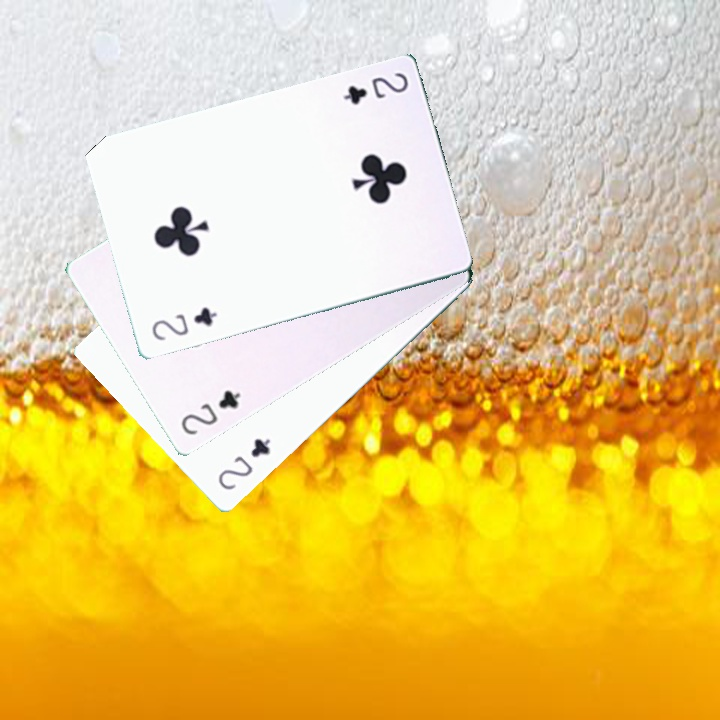2c: (213, 434, 273, 493), (177, 386, 243, 438), (147, 302, 220, 344), (339, 68, 411, 108)
